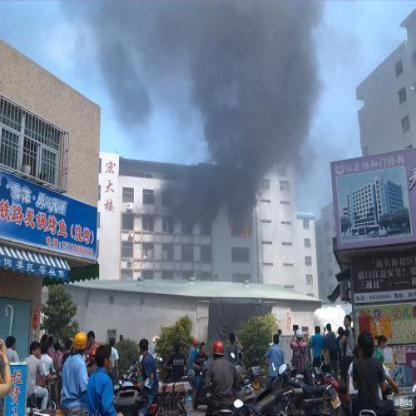smoke: (170, 1, 326, 112), (94, 0, 169, 133), (206, 112, 316, 179), (174, 170, 260, 226)
